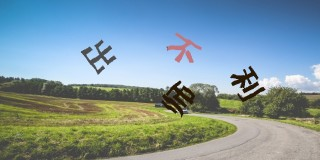不: (167, 33, 203, 66)
出: (80, 38, 116, 75)
利: (230, 64, 266, 101)
师: (158, 79, 196, 117)
